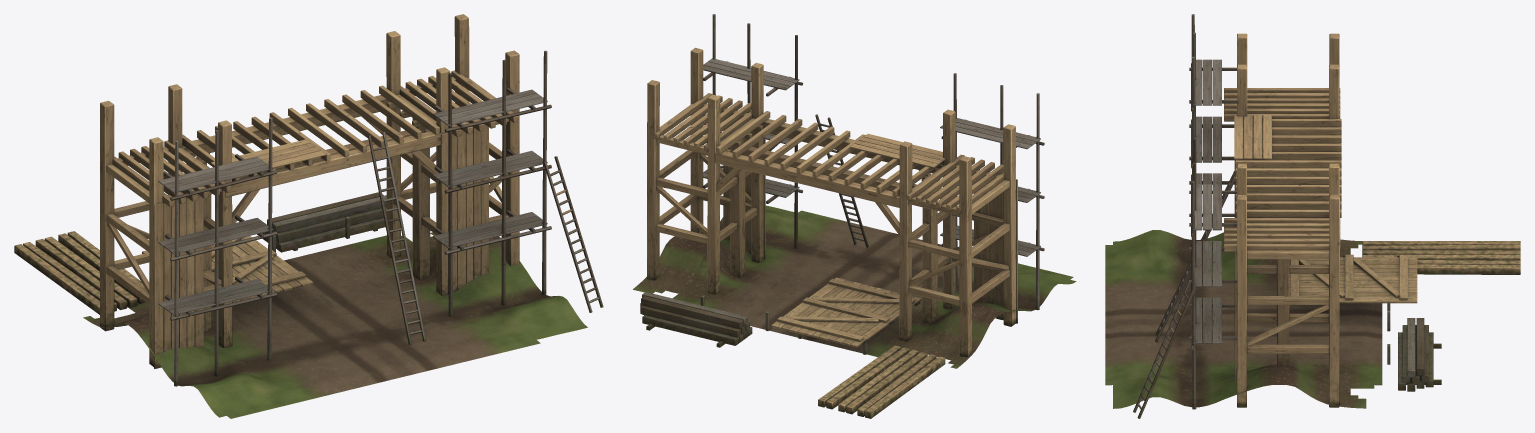
Rendered from gate_build2.glb.
3 views of the same model, side by side, from view 1: azimuth 30°, elevation 25°; view 2: azimuth 150°, elevation 25°; view 3: azimuth 270°, elevation 25° (orthographic). The views are drawn at different scales.
Visible parts, largest first — view 1: gate_build2_LOD0; view 2: gate_build2_LOD0; view 3: gate_build2_LOD0.
Boxes of the visible parts, x1=… form: gate_build2_LOD0: x1=14, y1=14, x2=603, y2=418; gate_build2_LOD0: x1=633, y1=14, x2=1076, y2=418; gate_build2_LOD0: x1=1105, y1=14, x2=1520, y2=418.
Size of what is drawn, in the model's own units: 13.12 by 7.66 by 12.6.
Materials: 1 (1 with a texture image).
